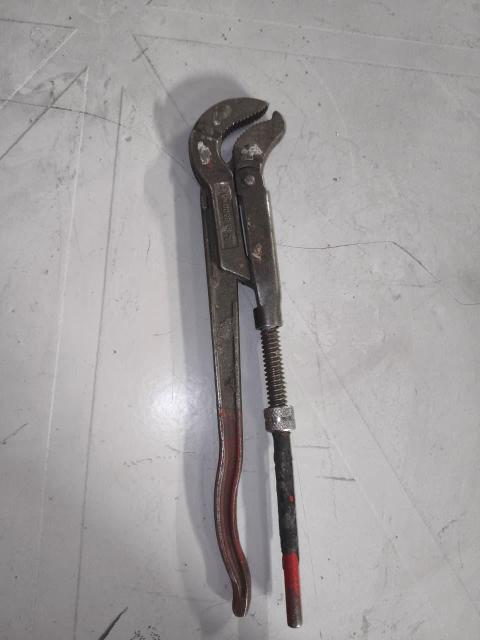Metal: (188, 95, 313, 632)
